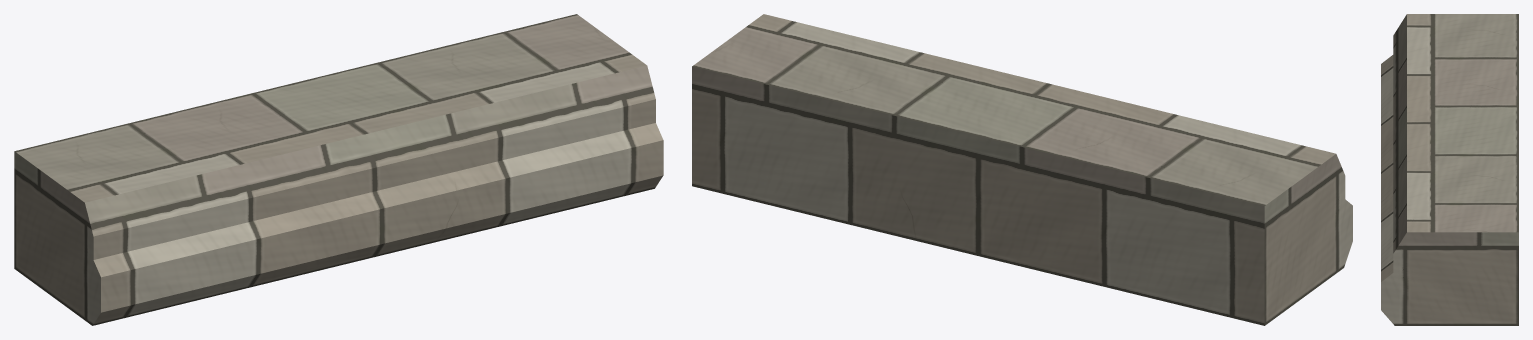
The model's file is Furn_Wall2_Base.fbx.
3 renders of one model, left to right at view 1: azimuth 30°, elevation 25°; view 2: azimuth 150°, elevation 25°; view 3: azimuth 270°, elevation 25°, orthographic. The views are drawn at different scales.
Parts seen in each view (by area): view 1: Furn_Wall2_Base; view 2: Furn_Wall2_Base; view 3: Furn_Wall2_Base.
Part boxes in pixels (x1,y1,x2,y2): Furn_Wall2_Base: [14, 14, 663, 325]; Furn_Wall2_Base: [692, 14, 1352, 325]; Furn_Wall2_Base: [1381, 14, 1518, 325].
Bounding box in the file's own units: 3 × 0.6 × 0.8.
